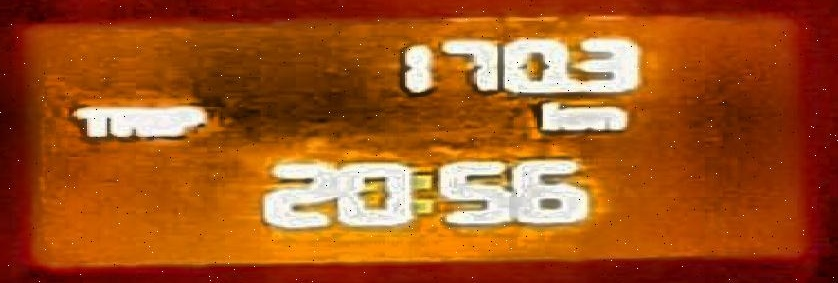-: (560, 75, 580, 94)
0: (338, 157, 407, 227), (498, 34, 562, 94)
1: (396, 40, 434, 95)
2: (258, 158, 336, 228)
3: (578, 35, 642, 93)
5: (435, 157, 509, 224)
6: (511, 155, 596, 224)
7: (440, 35, 498, 93)
X: (567, 103, 636, 135), (167, 100, 207, 138), (107, 104, 147, 137), (71, 104, 109, 137), (409, 168, 431, 218), (538, 99, 569, 134), (149, 103, 162, 140)
